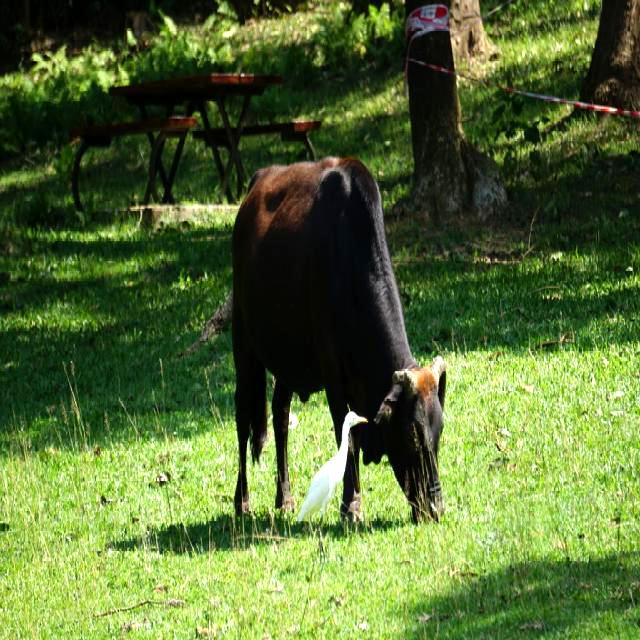COW: (231, 158, 445, 522)
